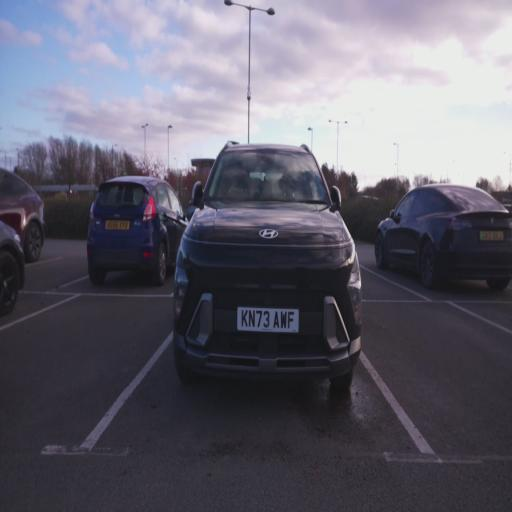numberplates: (238, 307, 298, 332), (479, 231, 504, 241), (106, 220, 129, 230)
